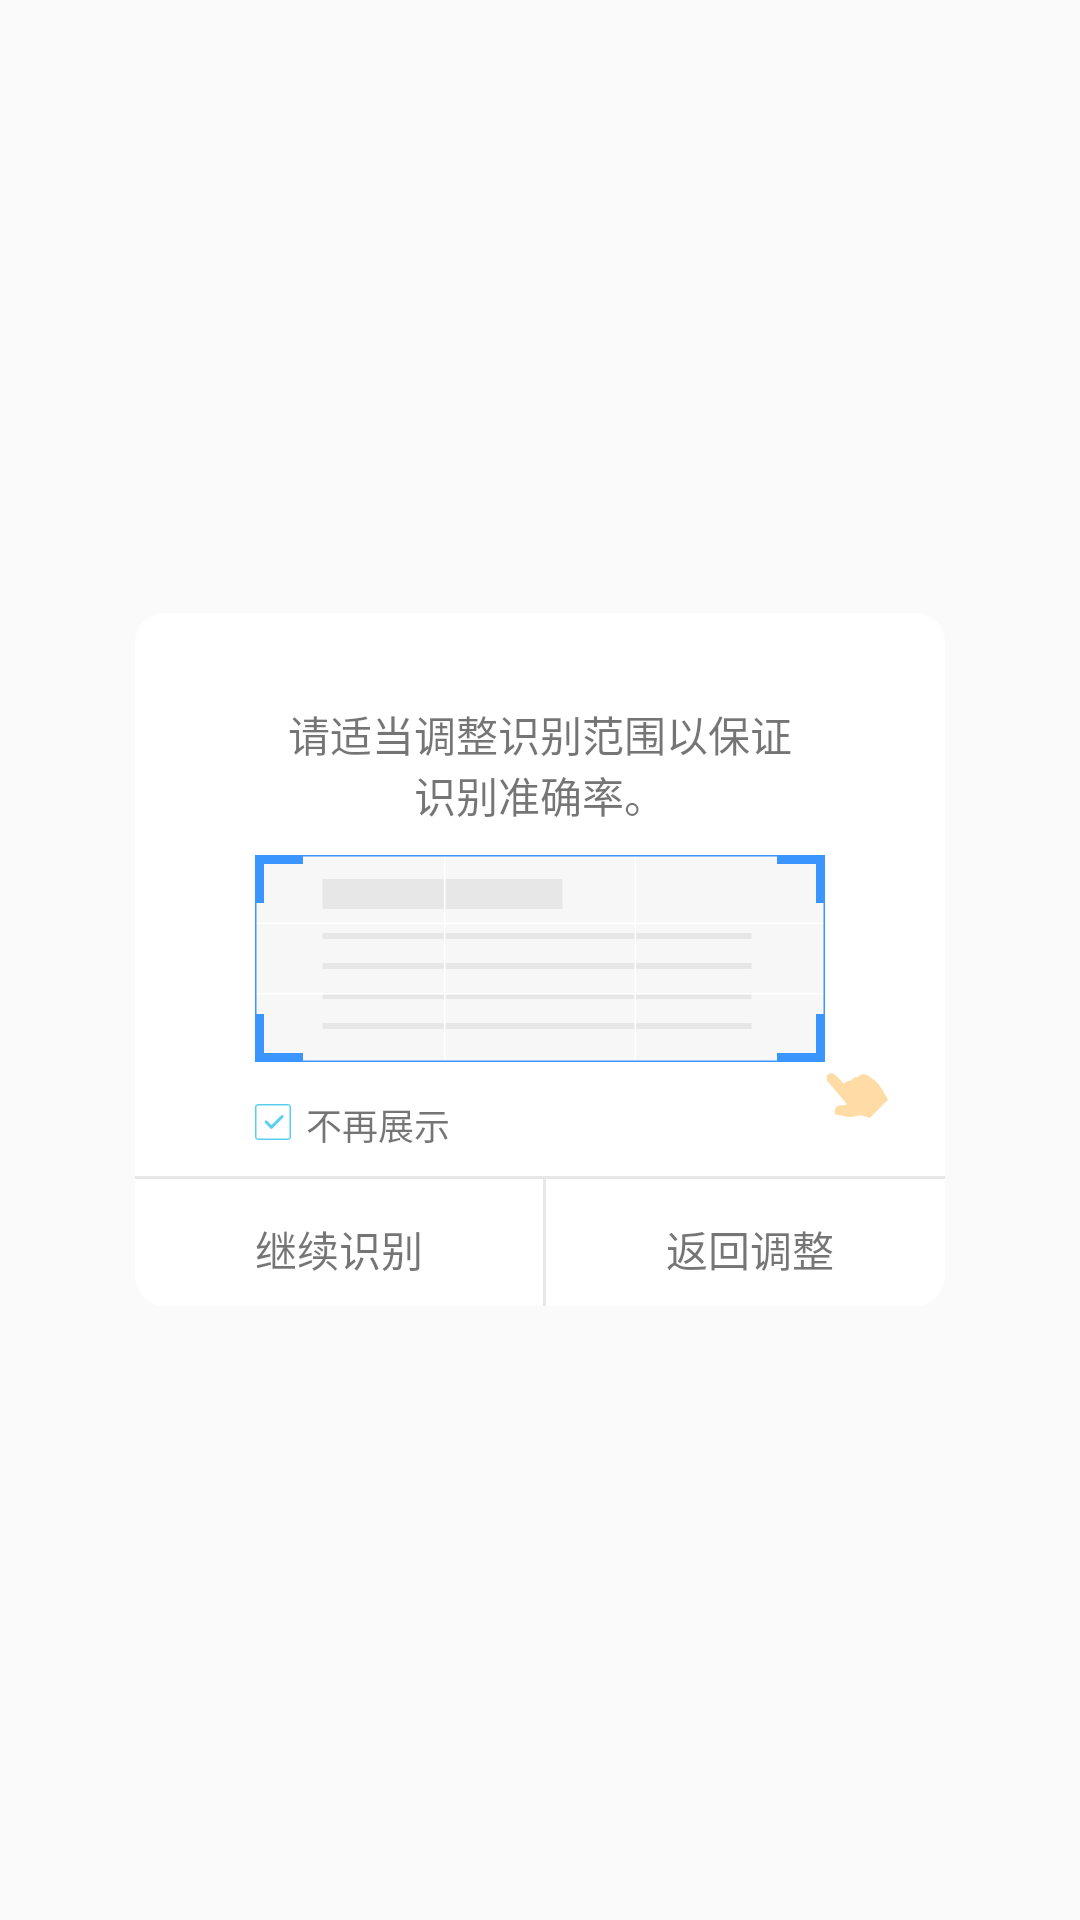

Named icons in this screenshot (1080px x 1920px) and their bounding boxes, (x1, y1, x2, y2):
grouping select: (255, 1104, 291, 1140)
guide hand: (826, 1073, 888, 1118)
